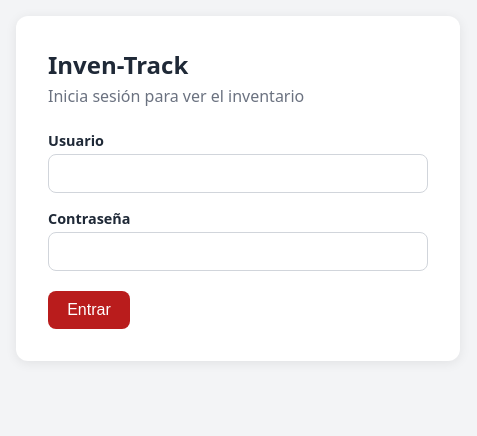
Test: <Login /> › no llama al backend si falta el usuario
This screenshot has width=477, height=436.
Type "admin123" into the password field labelled "Contraseña" at (238, 252), box left=48, top=232, right=428, bottom=271
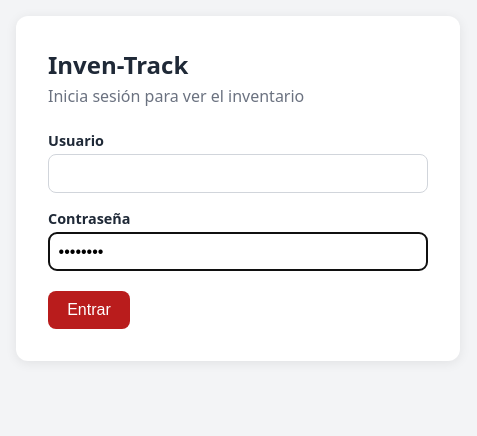
Click the button "Entrar" at (89, 310), box left=48, top=291, right=130, bottom=329
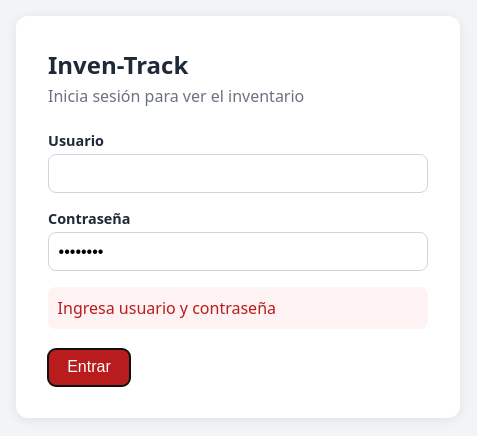
Expected: the message reads "Ingresa usuario y contraseña", left=58, top=297, right=276, bottom=319
